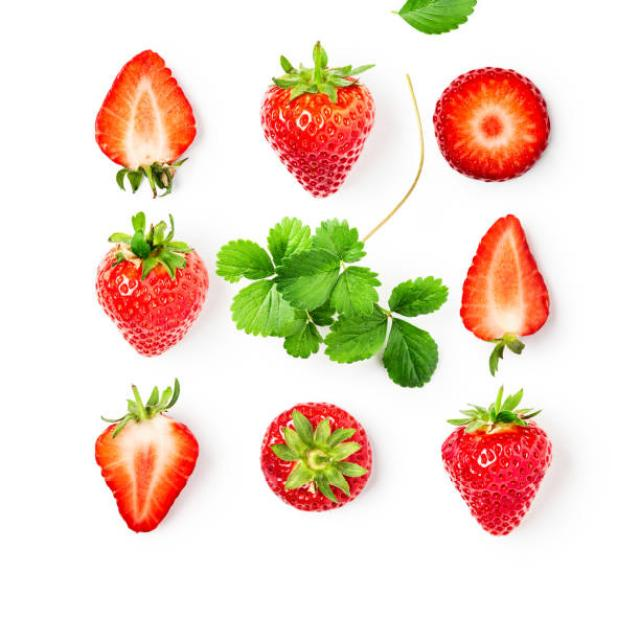Healthy Fruit: (259, 78, 376, 198), (258, 401, 373, 514), (440, 426, 552, 540), (95, 244, 206, 359)
